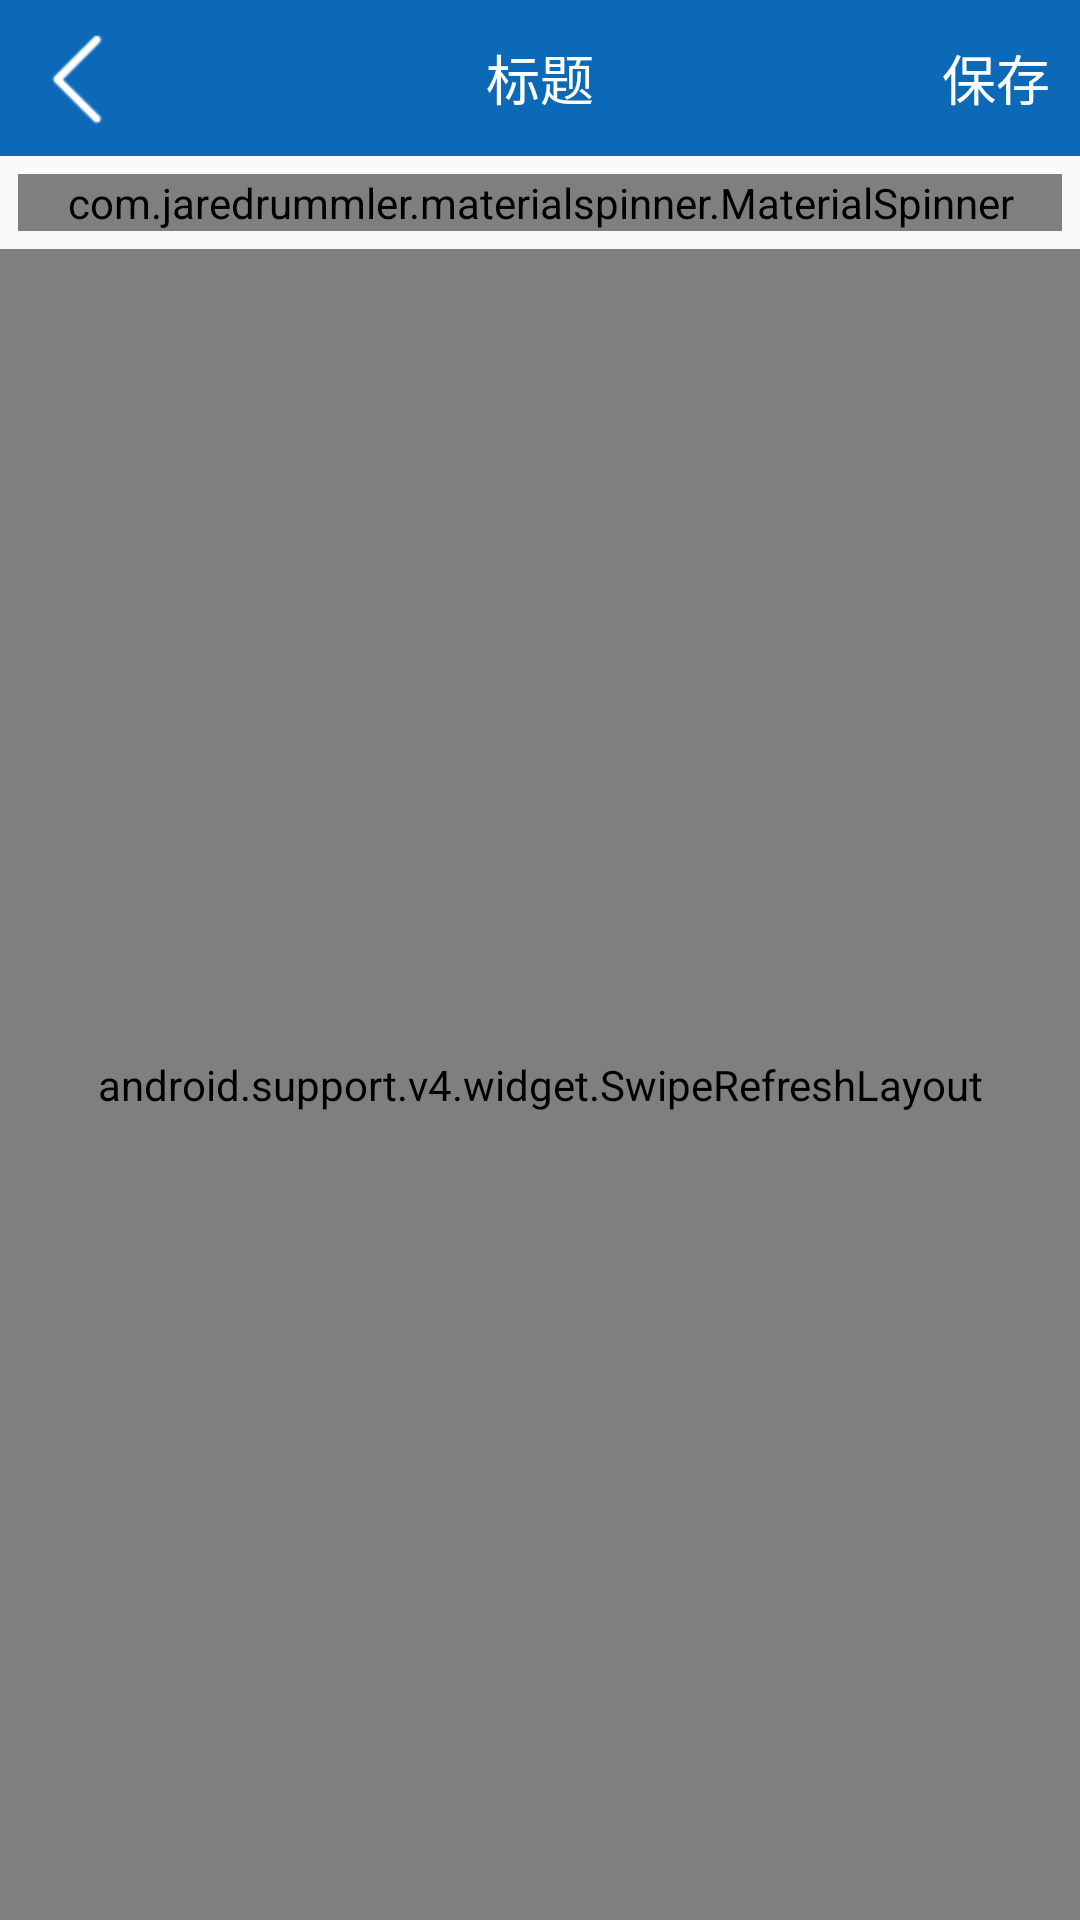

Named icons in this screenshot (1080 x 1920) and their centers, (x,y):
back: (77,79)
